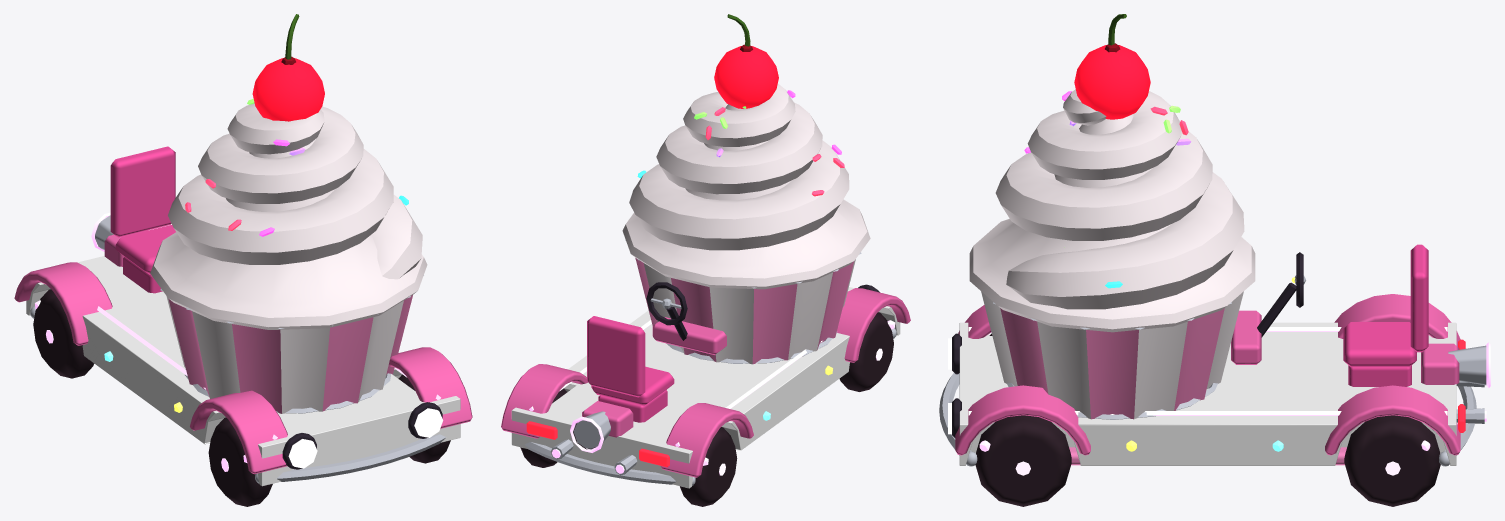
Rendered from frosted_fury_lo.glb.
The picture shows the model from 3 angles, left to right: view 1: azimuth 30°, elevation 25°; view 2: azimuth 150°, elevation 25°; view 3: azimuth 270°, elevation 25°; orthographic projection. The views are drawn at different scales.
Visible parts, largest first — view 1: frost_rope, plate, frost_core, wrapper, seat_back, fender_1, cherry_ball, fender_3, fender_0, wheel_FR_tyre, wheel_RR_tyre, bumper_1 (+7 smaller); view 2: frost_rope, plate, wrapper, frost_core, seat_back, cherry_ball, fender_3, fender_2, fender_1, wheel_FR_tyre, wheel_RR_tyre, dash (+8 smaller); view 3: frost_rope, plate, wrapper, frost_core, wheel_RL_tyre, wheel_FL_tyre, cherry_ball, fender_2, fender_0, seat_cushion, fender_3, seat_back (+7 smaller).
Boxes of the visible parts, bbox=[...] form: frost_rope: bbox=[168, 103, 422, 279]; plate: bbox=[26, 256, 460, 486]; frost_core: bbox=[150, 139, 427, 329]; wrapper: bbox=[166, 295, 412, 413]; seat_back: bbox=[110, 146, 175, 237]; fender_1: bbox=[190, 390, 287, 474]; cherry_ball: bbox=[252, 58, 324, 121]; fender_3: bbox=[14, 262, 112, 345]; fender_0: bbox=[389, 347, 472, 428]; wheel_FR_tyre: bbox=[208, 417, 272, 506]; wheel_RR_tyre: bbox=[33, 289, 94, 378]; bumper_1: bbox=[276, 434, 446, 481]; frost_rope: bbox=[629, 84, 849, 250]; plate: bbox=[511, 287, 900, 488]; wrapper: bbox=[635, 258, 855, 364]; frost_core: bbox=[622, 104, 870, 289]; seat_back: bbox=[587, 316, 645, 397]; cherry_ball: bbox=[714, 46, 778, 108]; fender_3: bbox=[661, 403, 753, 477]; fender_2: bbox=[501, 364, 587, 438]; fender_1: bbox=[837, 288, 910, 362]; wheel_FR_tyre: bbox=[839, 312, 893, 391]; wheel_RR_tyre: bbox=[680, 427, 737, 506]; dash: bbox=[652, 317, 726, 354]; frost_rope: bbox=[995, 89, 1244, 309]; plate: bbox=[959, 322, 1456, 465]; wrapper: bbox=[981, 291, 1243, 419]; frost_core: bbox=[969, 114, 1255, 332]; wheel_RL_tyre: bbox=[1344, 415, 1440, 506]; wheel_FL_tyre: bbox=[975, 415, 1071, 506]; cherry_ball: bbox=[1074, 45, 1150, 119]; fender_2: bbox=[1325, 385, 1460, 455]; fender_0: bbox=[955, 385, 1090, 455]; seat_cushion: bbox=[1343, 322, 1416, 367]; fender_3: bbox=[1334, 294, 1460, 346]; seat_back: bbox=[1410, 244, 1428, 352].
Bounding box in the file's own units: 2.3 × 3.9 × 4.33.
